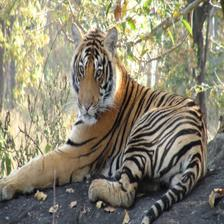tiger: (22, 27, 224, 217)
